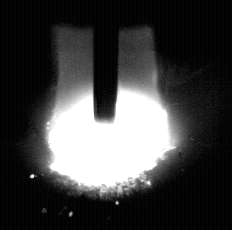arame: (95, 0, 118, 124)
poca: (48, 0, 172, 230)
